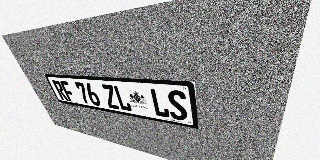6: (83, 83, 102, 106)
7: (74, 82, 92, 105)
F: (59, 81, 77, 102)
L: (149, 88, 170, 118), (112, 85, 133, 112)
R: (52, 80, 69, 101)
S: (166, 89, 188, 121)
Z: (101, 84, 120, 110)
